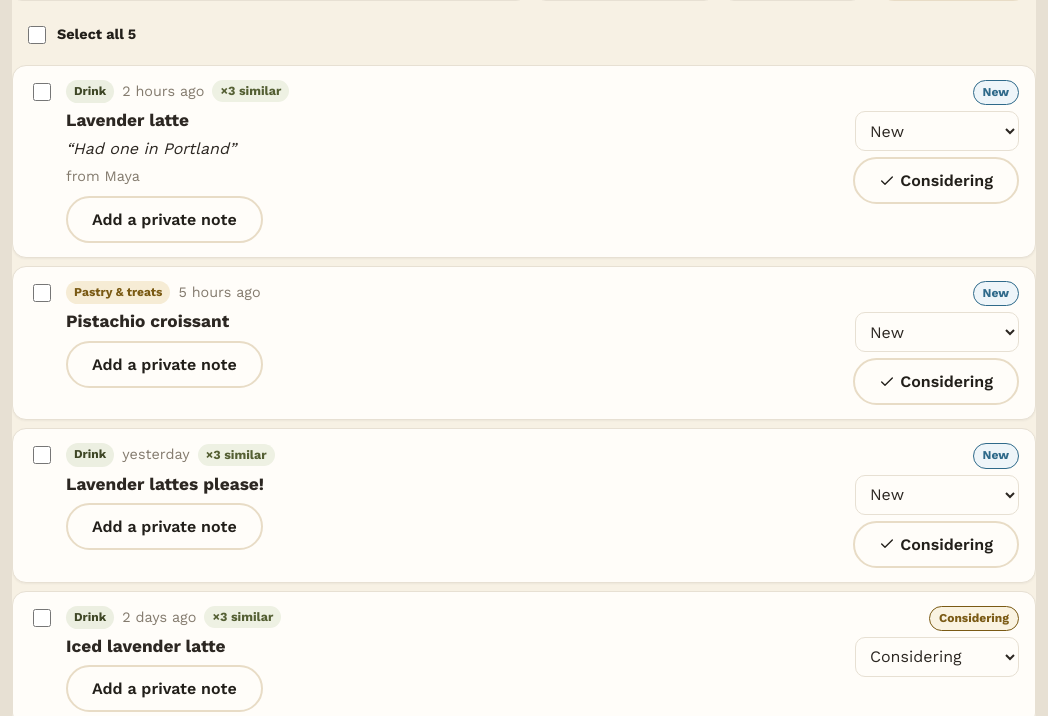
it: admin Wish list › a failed save puts it back and says so
(page scrolled)
Expected: the text "Pistachio croissant" is shown, [66,311,229,331]
Select "Not now" in the 2nd dropdown named "Status of “Pistachio croissant”" at (937, 332), box [855,312,1019,352]
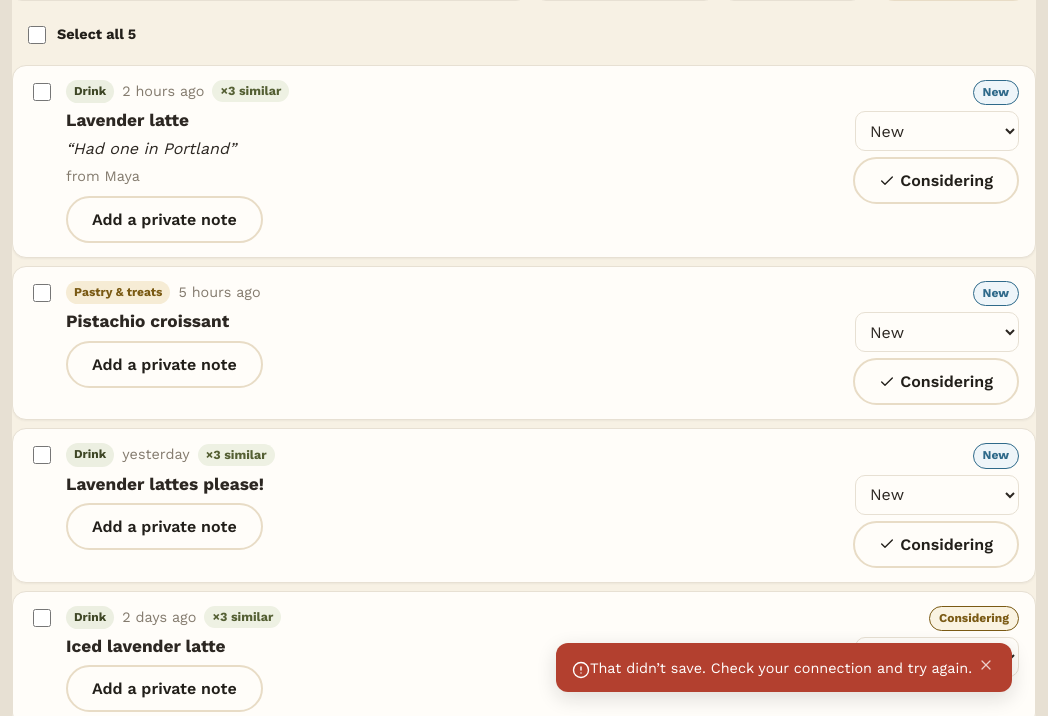
Expected: the text "That didn’t save. Check your connection and try again." is shown, [590,660,972,676]
